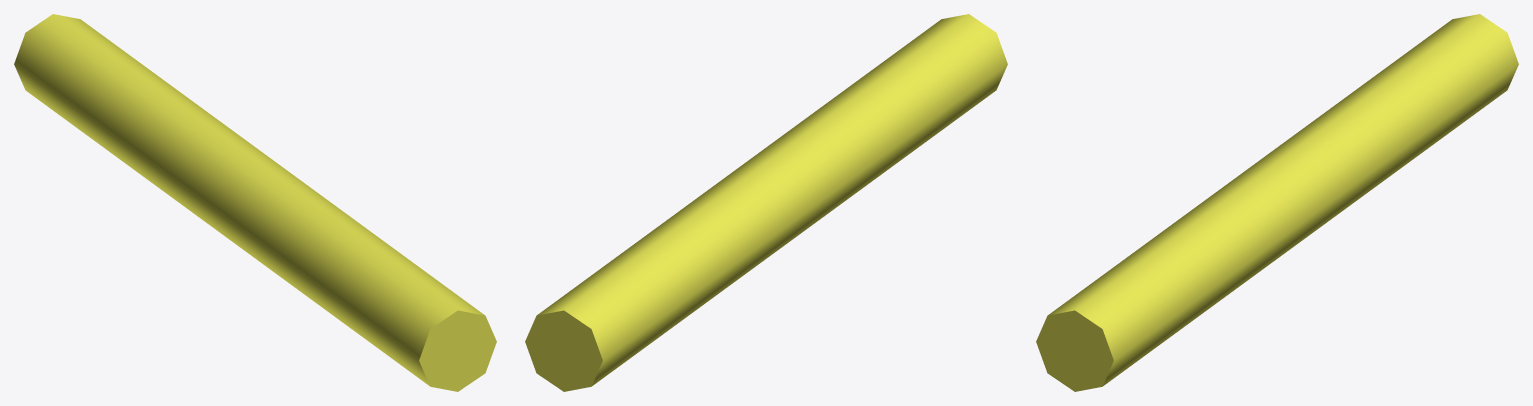
The model's file is Tiza 1.fbx.
3 renders of one model, left to right at view 1: azimuth 30°, elevation 25°; view 2: azimuth 150°, elevation 25°; view 3: azimuth 330°, elevation 25°, orthographic.
Visible parts, largest first — view 1: Tiza_1; view 2: Tiza_1; view 3: Tiza_1.
Part boxes in pixels (left/top/right/bottom): Tiza_1: left=14, top=14, right=496, bottom=391; Tiza_1: left=525, top=14, right=1007, bottom=391; Tiza_1: left=1036, top=14, right=1518, bottom=391.
Bounding box in the file's own units: 0.02 × 0.02 × 0.18.
